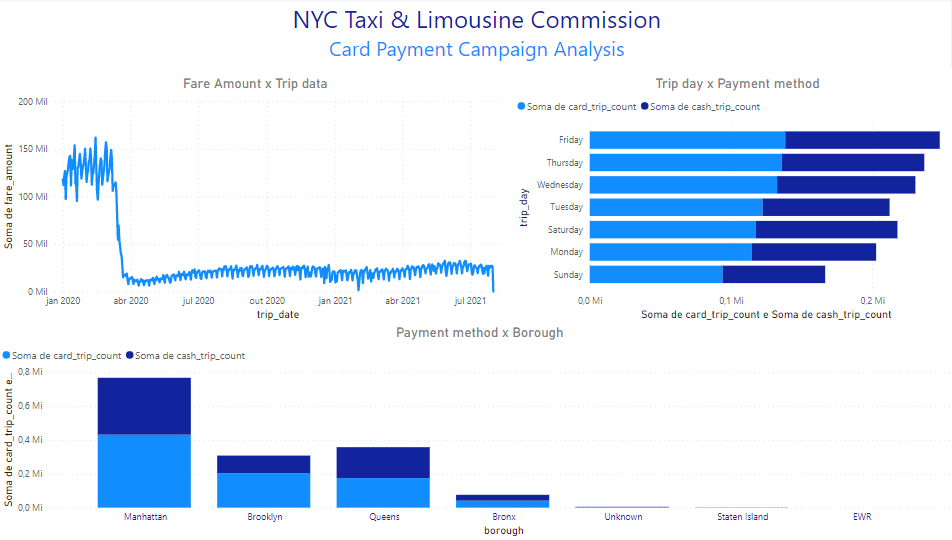

The page's visual inventory and layout, read from the dashboard file:
{"tool":"powerbi","page":{"name":"Página 1","canvas":[1280,720],"ordinal":0},"visuals":[{"type":"lineChart","title":"Fare Amount x Trip data","fields":{"Category":["gold vw_trip_data_green.trip_date"],"Y":["Sum(gold vw_trip_data_green.fare_amount)"]},"box":[0,102.5,683.7,330.9],"z":0},{"type":"barChart","title":"Trip day x Payment method","fields":{"Category":["gold vw_trip_data_green.trip_day"],"Y":["Sum(gold vw_trip_data_green.card_trip_count)","Sum(gold vw_trip_data_green.cash_trip_count)"]},"box":[683.7,102.5,596.3,330.9],"z":1000},{"type":"columnChart","title":"Payment method x Borough","fields":{"Category":["gold vw_trip_data_green.borough"],"Y":["Sum(gold vw_trip_data_green.card_trip_count)","Sum(gold vw_trip_data_green.cash_trip_count)"]},"box":[0,433.4,1280,287.2],"z":2000},{"type":"textbox","box":[0,0,1280,102.5],"z":3000}]}

Visuals, with their boxes in screenshot pixels (x1, y1, x2, y2), scaled from the page's 1280x720 canvas onto the 952x540 screenshot:
"Fare Amount x Trip data" lineChart: BBox(0, 77, 509, 325)
"Trip day x Payment method" barChart: BBox(509, 77, 951, 325)
"Payment method x Borough" columnChart: BBox(0, 325, 951, 539)
textbox: BBox(0, 0, 951, 77)
